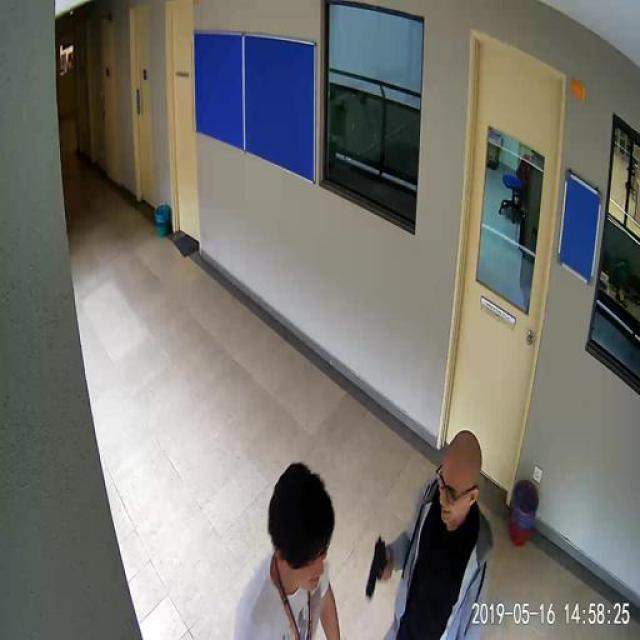Gun: (364, 534, 388, 598)
